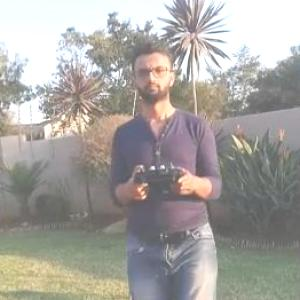follow: (108, 34, 226, 299)
